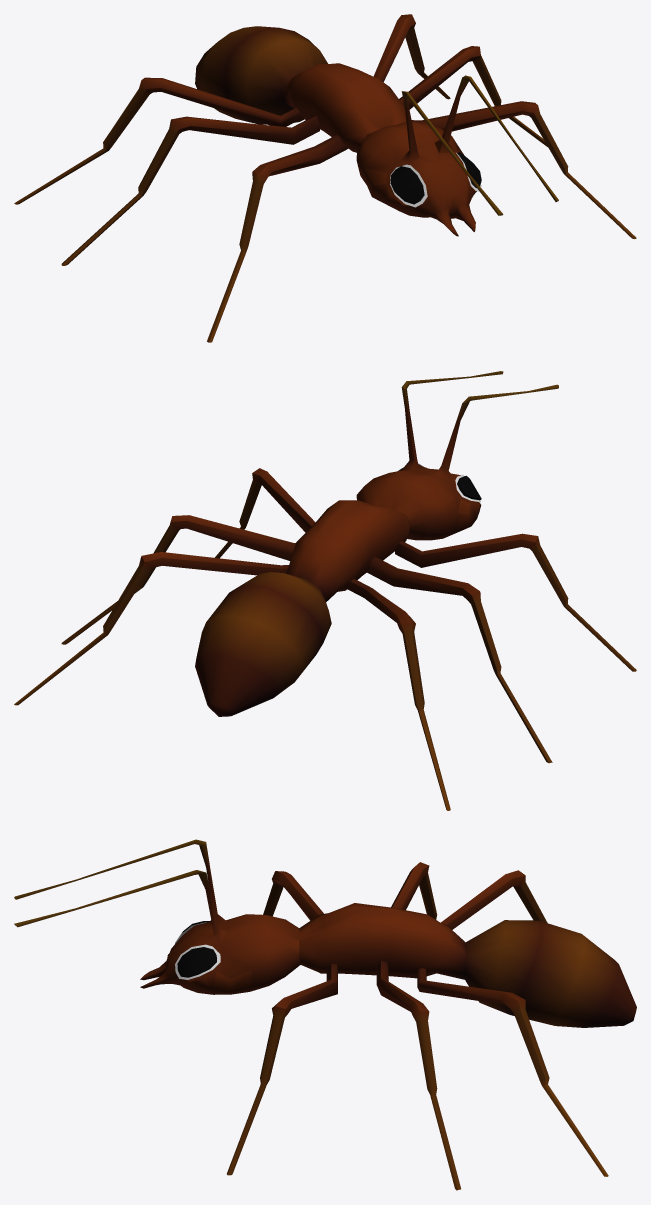
Rendered from animals-insects-fireant_v1.fbx.
3 views of the same model, one above another, from view 1: azimuth 30°, elevation 25°; view 2: azimuth 150°, elevation 25°; view 3: azimuth 270°, elevation 25° (orthographic).
Parts seen in each view (by area): view 1: FireAnt.001; view 2: FireAnt.001; view 3: FireAnt.001.
Part boxes in pixels (x1,y1,x2,y2): FireAnt.001: (14, 14, 636, 342); FireAnt.001: (14, 371, 636, 810); FireAnt.001: (14, 839, 636, 1190).
Size of the model in its own units: 1.42 by 0.6013 by 1.57.
